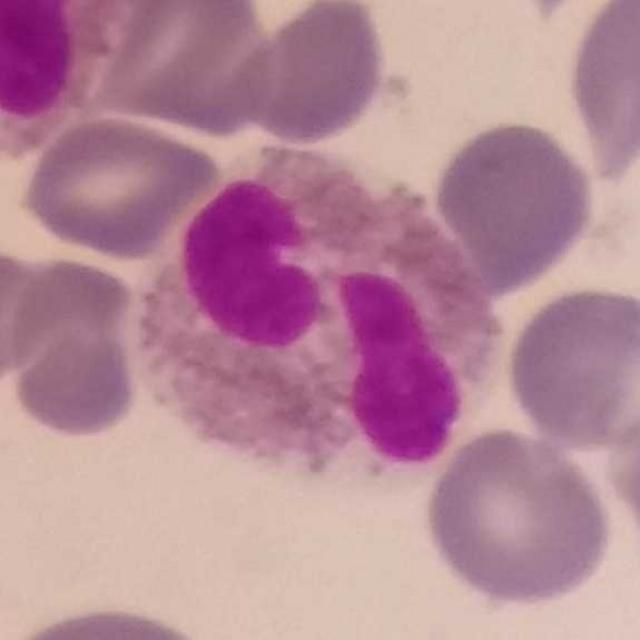eosino: (138, 139, 511, 495)
